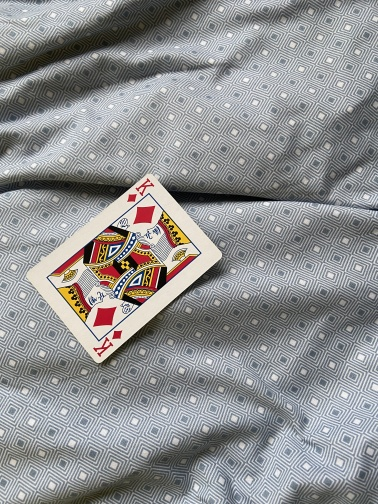king: (25, 172, 224, 365)
